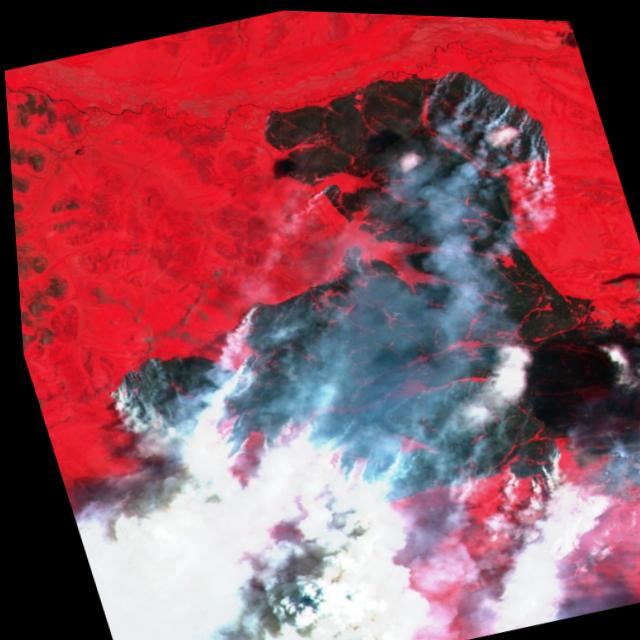fire: (8, 13, 640, 623)
